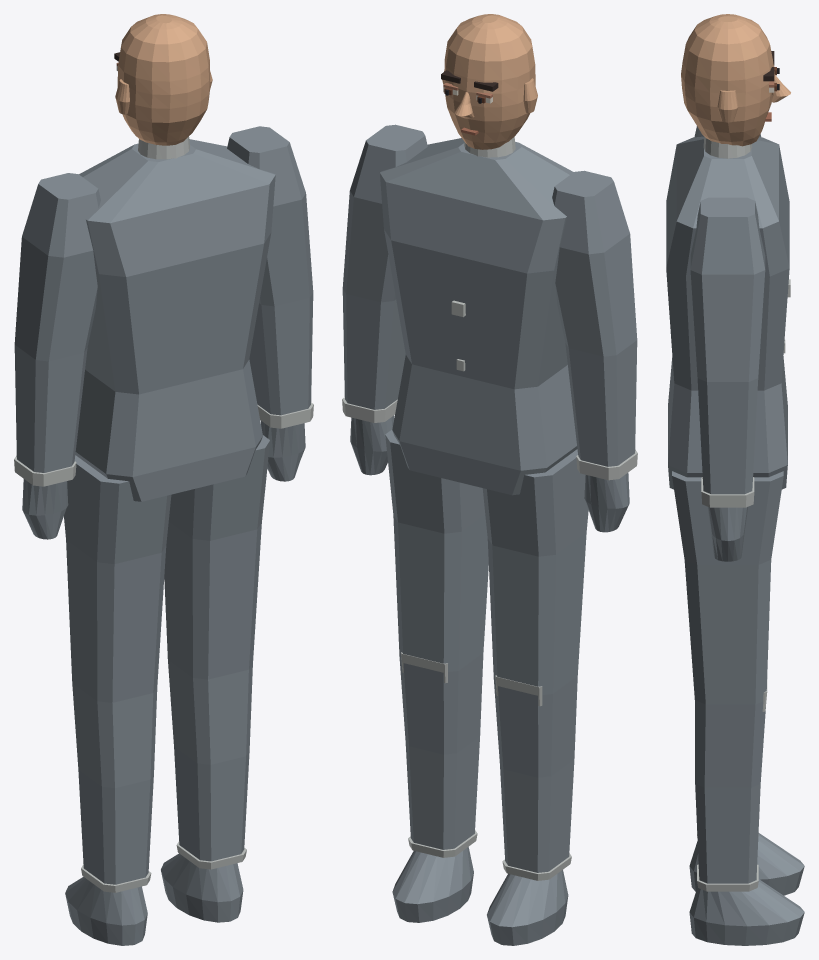
The model's file is visual-far.glb.
3 renders of one model, left to right at view 1: azimuth 30°, elevation 25°; view 2: azimuth 150°, elevation 25°; view 3: azimuth 270°, elevation 25°, orthographic.
Parts seen in each view (by area): view 1: 精细体素成年人体母版A（直线肩胯） · 年龄身高安装派生, 精细成年头部母版; view 2: 精细体素成年人体母版A（直线肩胯） · 年龄身高安装派生, 精细成年头部母版; view 3: 精细体素成年人体母版A（直线肩胯） · 年龄身高安装派生, 精细成年头部母版.
Part boxes in pixels (left/top/right/bottom): 精细体素成年人体母版A（直线肩胯） · 年龄身高安装派生: left=14, top=126, right=313, bottom=945; 精细成年头部母版: left=114, top=14, right=212, bottom=145; 精细体素成年人体母版A（直线肩胯） · 年龄身高安装派生: left=342, top=124, right=637, bottom=945; 精细成年头部母版: left=441, top=14, right=537, bottom=149; 精细体素成年人体母版A（直线肩胯） · 年龄身高安装派生: left=666, top=126, right=804, bottom=945; 精细成年头部母版: left=681, top=14, right=790, bottom=146.
Bounding box in the file's own units: 0.5883 × 1.8 × 0.2538.
Materials: 9 (9 with a texture image).
